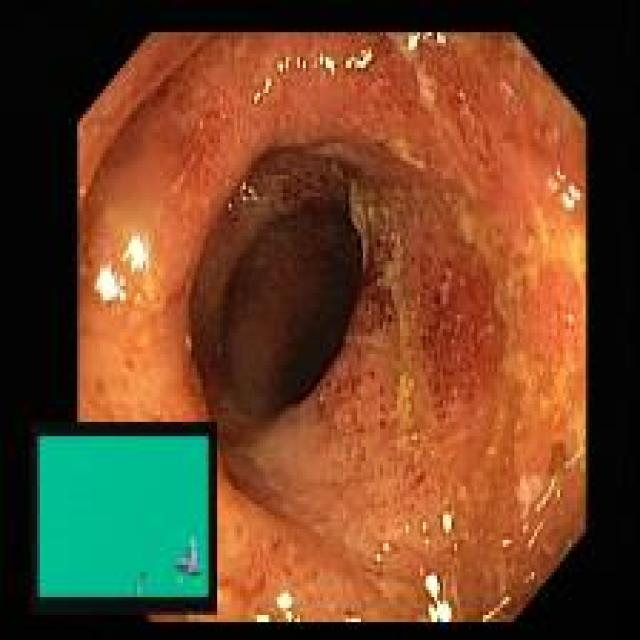ulcerative-colitis: (80, 33, 585, 622)
